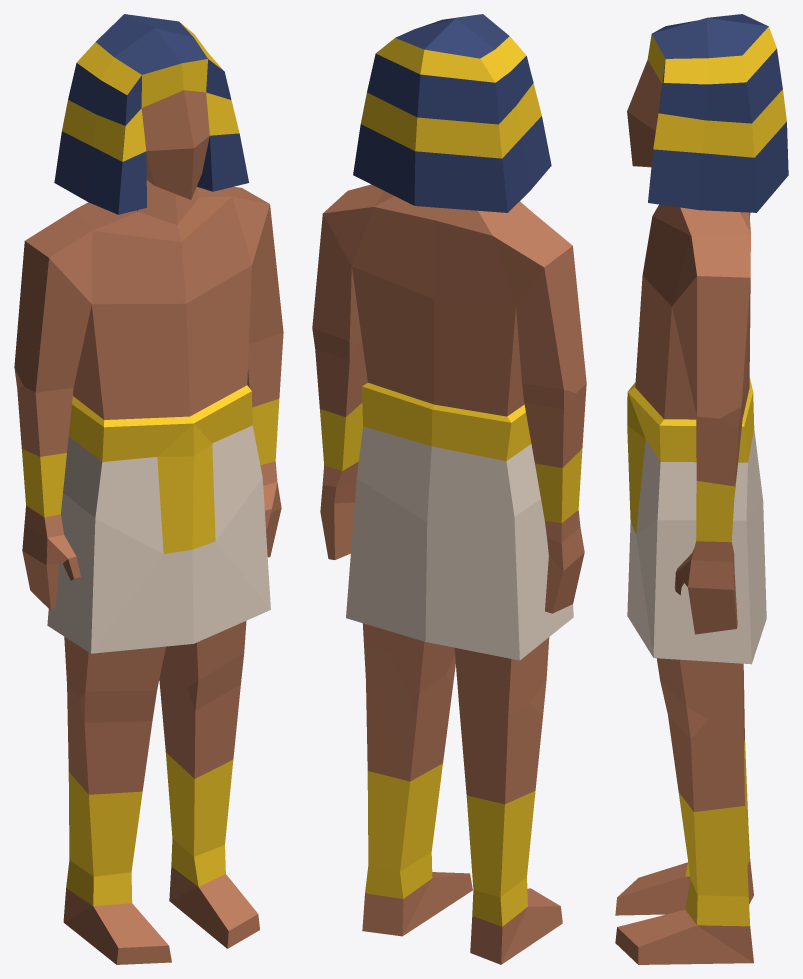
File: man-egypt-soldier.glb
3 views of the same model, side by side, from view 1: azimuth 30°, elevation 25°; view 2: azimuth 150°, elevation 25°; view 3: azimuth 270°, elevation 25° (orthographic).
Visible parts, largest first — view 1: man-egypt-soldier; view 2: man-egypt-soldier; view 3: man-egypt-soldier.
Boxes of the visible parts, box(x1,y1,x2,y2) form: man-egypt-soldier: box(14, 14, 283, 964); man-egypt-soldier: box(312, 14, 586, 964); man-egypt-soldier: box(615, 14, 788, 964).
Size of the model in its own units: 0.5411 by 1.85 by 0.3196.
1 material, 1 textured.
